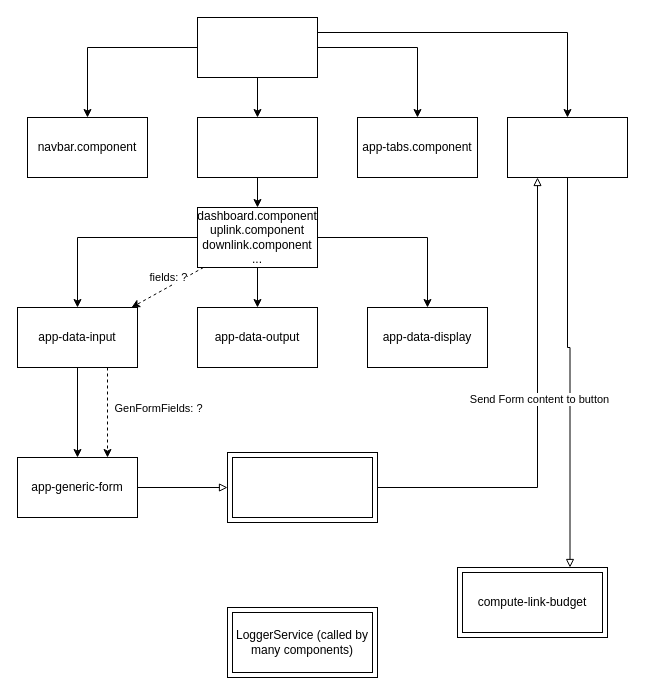
Some shapes in this 645 by 695 pixel diagram are drawn without their labels. Here are the shapes that lost their labels. From the top down, the box of each, then its label:
(196, 16, 318, 78): app.component
(196, 116, 318, 178): router-outlet
(506, 116, 628, 178): sidebar.component
(226, 452, 378, 522): FormService (collects all forms data)
